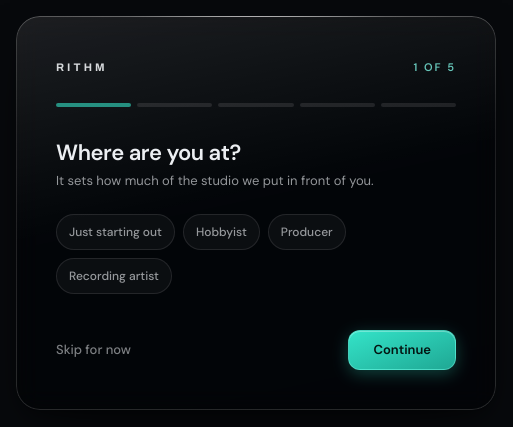
Test case: Onboarding › asks one question at a time and advances on Continue
Expected: the heading "Where are you at?" is shown, [56, 138, 241, 167]
Expected: the text "What do you make?" is not shown
Click the button "Continue": (402, 350) [348, 330, 456, 370]
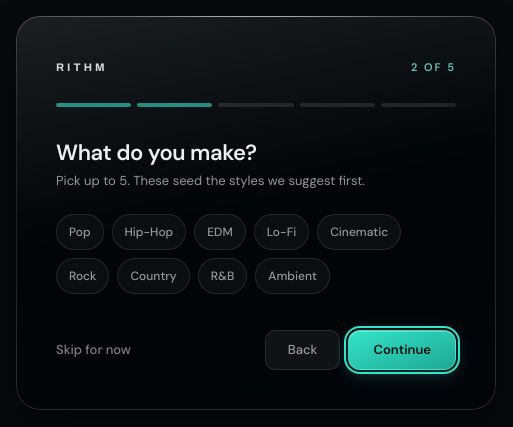
Expected: the heading "What do you make?" is shown, [56, 138, 256, 167]
Expected: the text "2 of 5" is shown, [411, 60, 456, 75]
